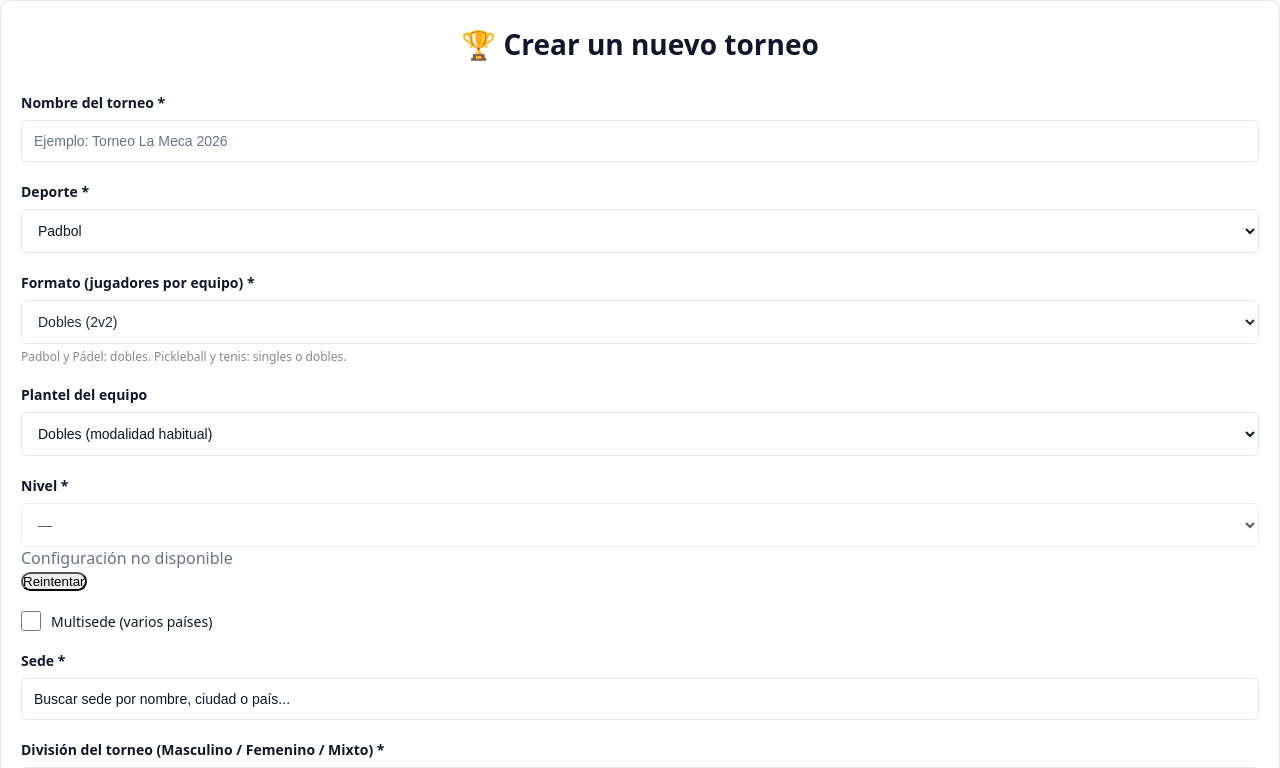
unavailable policy shows retry and keeps level selection disabled
Expected: the message "Configuración no disponible Reintentar" is shown, [21,547,233,591]
Expected: the 3rd dropdown named "nivel_torneo" is disabled, [21,503,1259,547]
Click the button "Reintentar" at [54, 582], box [21,572,86,591]
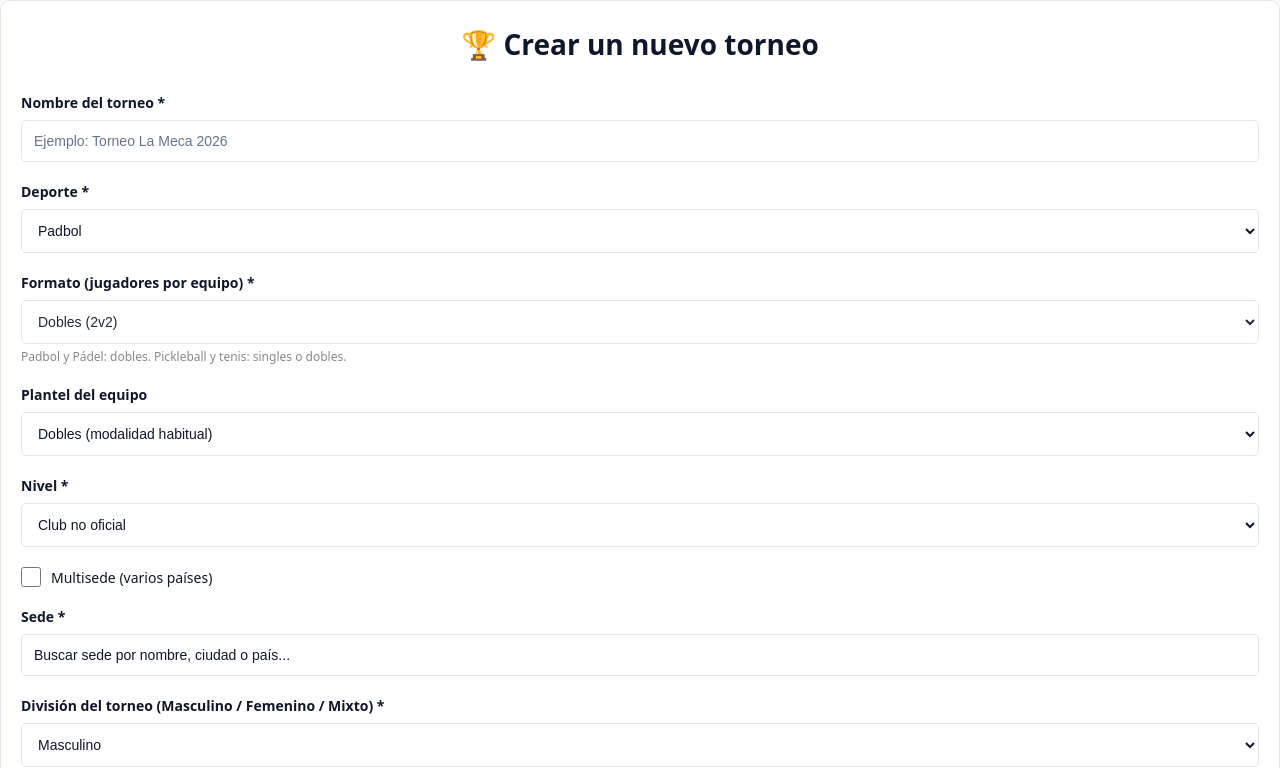
Now the 3rd dropdown named "nivel_torneo" is enabled, box [21,503,1259,547]
